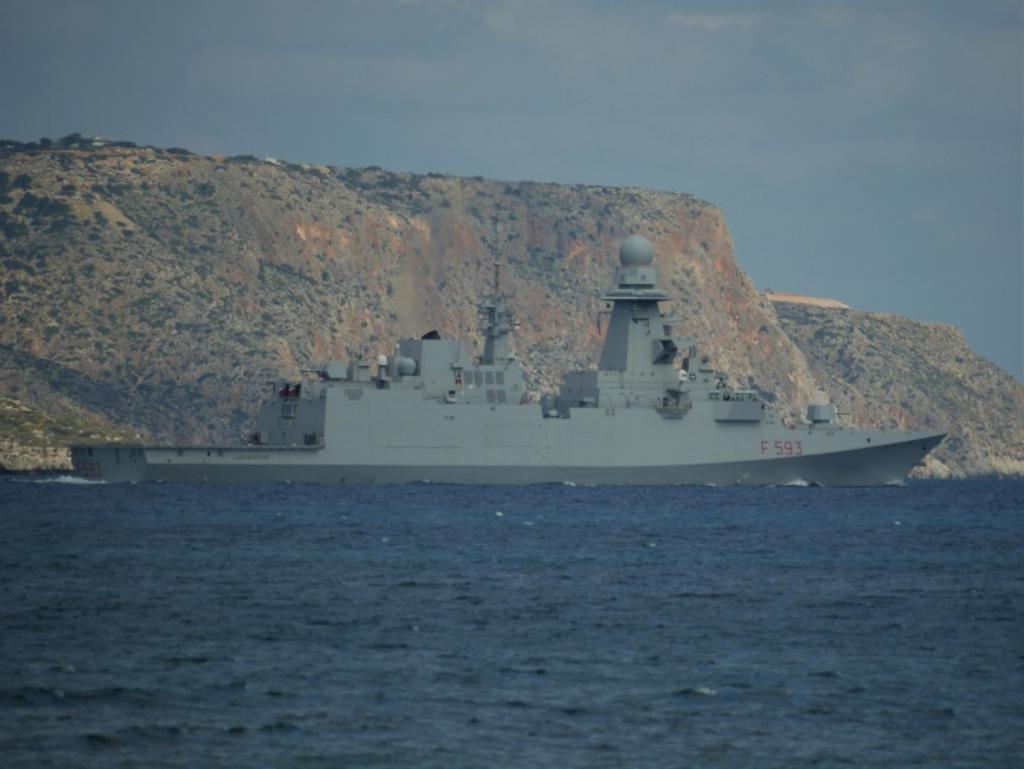Warship: (71, 220, 947, 492)
